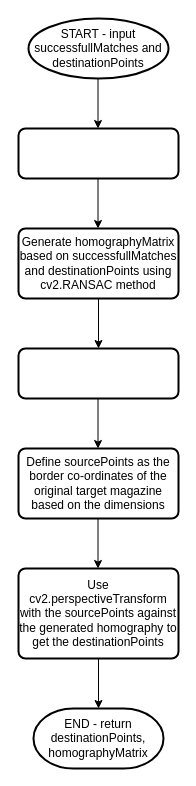
Some shapes in this 196 by 786 pixel diagram are drawn without their labels. The centre of each missing label's shape, as x and y in pixels:
Get the dimesnsions of the detected target: the point at 98,373
reshape successfullMatches and destinationPoints: the point at 98,153
